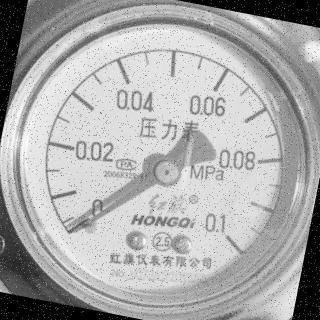gauge: (0, 0, 320, 320), (60, 210, 102, 257), (209, 217, 251, 260), (146, 153, 186, 191), (65, 220, 85, 240)
